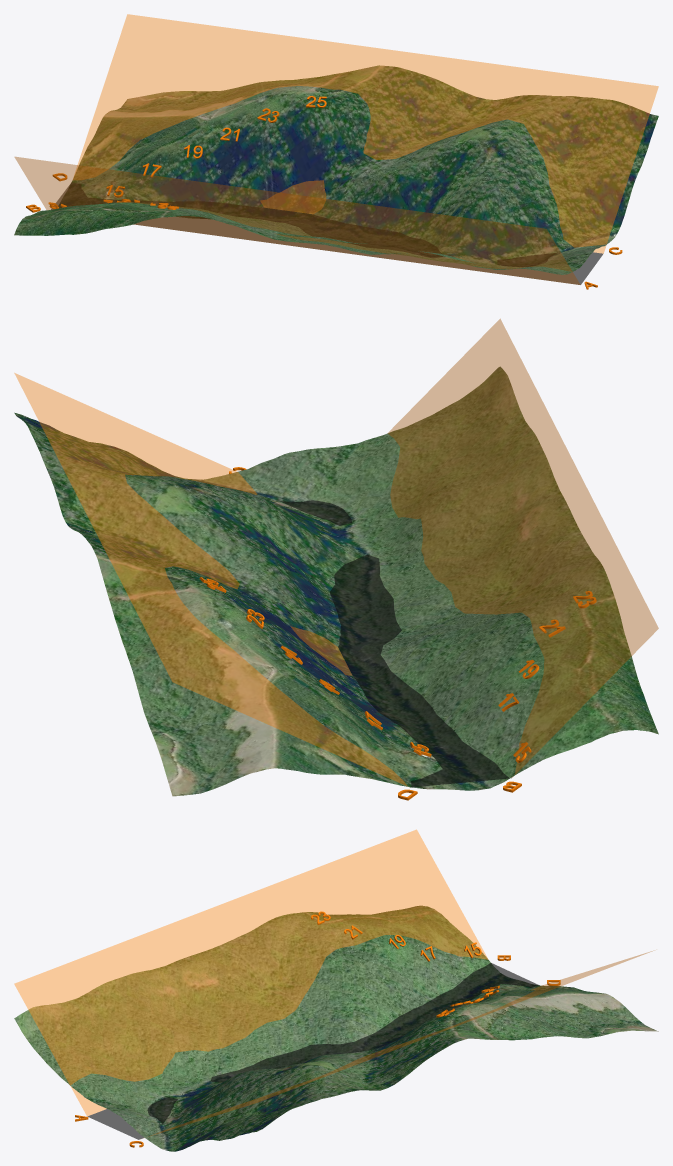
File: curva16a.gltf
3 renders of one model, top to bottom at view 1: azimuth 30°, elevation 25°; view 2: azimuth 150°, elevation 25°; view 3: azimuth 270°, elevation 25°, orthographic. The views are drawn at different scales.
Parts seen in each view (by area): view 1: root; view 2: root; view 3: root.
Boxes of the visible parts, x1,y1,x2,y2 form: root: (14, 14, 658, 289); root: (14, 319, 658, 800); root: (14, 829, 658, 1151).
Size of the model in its own units: 1835 by 337 by 1874.
4 materials, 1 textured.
